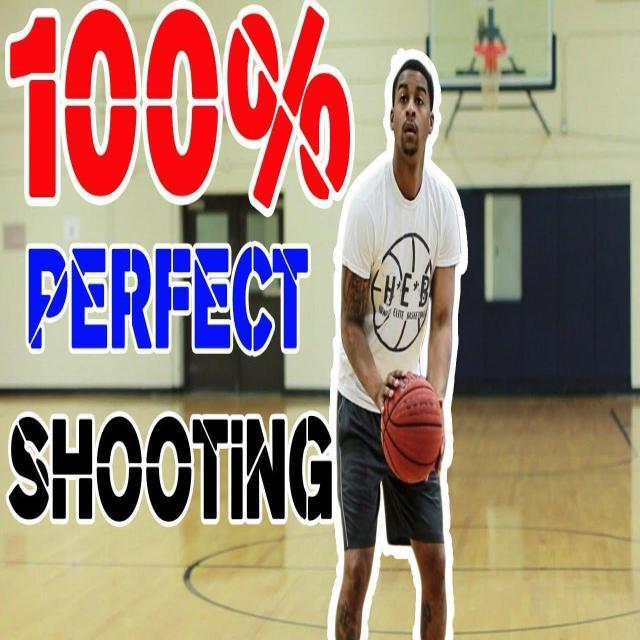Basketball: (381, 372, 444, 482)
hoop: (474, 40, 508, 111)
